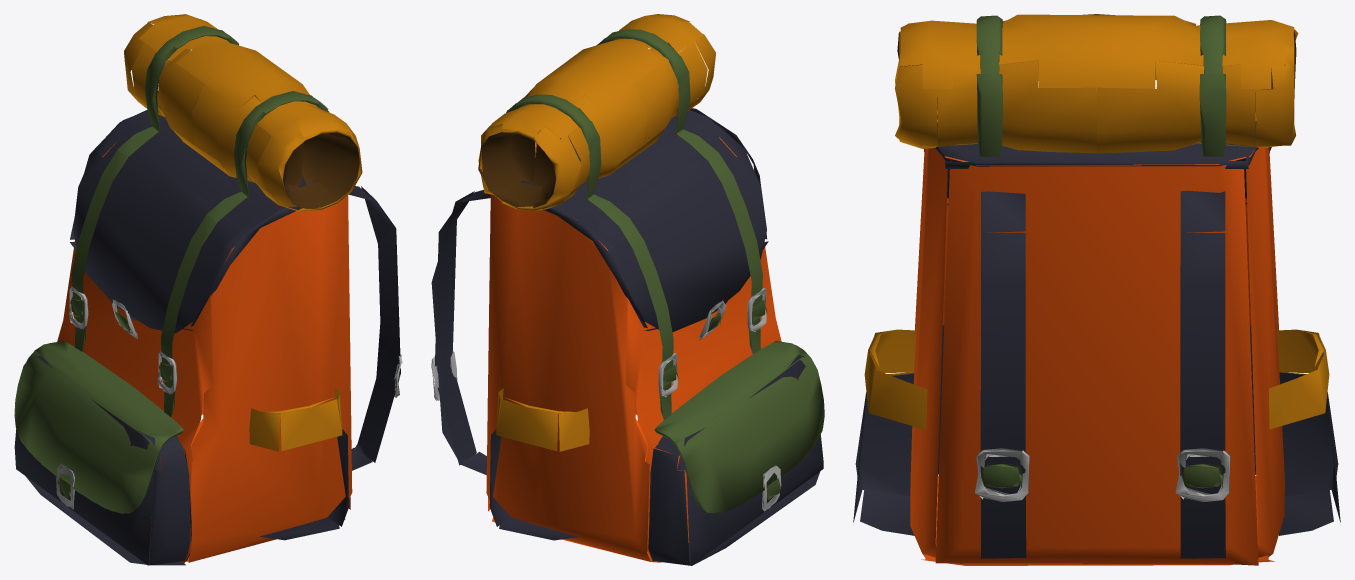
File: new_backpack.glb
3 renders of one model, left to right at view 1: azimuth 30°, elevation 25°; view 2: azimuth 150°, elevation 25°; view 3: azimuth 270°, elevation 25°, orthographic. The views are drawn at different scales.
Parts seen in each view (by area): view 1: bag, sleepingbag, Plane.004; view 2: bag, sleepingbag, Plane.004; view 3: bag, sleepingbag, Plane.004.
Part boxes in pixels (x1,y1,x2,y2): bag: (14,25,400,565); sleepingbag: (124,14,362,211); Plane.004: (56,286,402,509); bag: (431,29,824,565); sleepingbag: (478,14,715,210); Plane.004: (431,288,782,511); bag: (853,15,1340,565); sleepingbag: (895,14,1298,153); Plane.004: (975,448,1230,501).
Size of the model in its own units: 3.59 by 4.96 by 4.1.
Materials: 6 (2 with a texture image).
